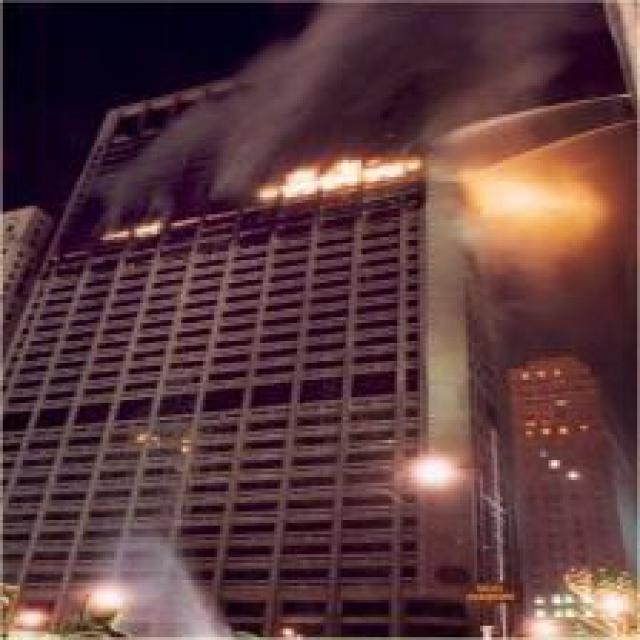fire: (254, 152, 440, 192)
